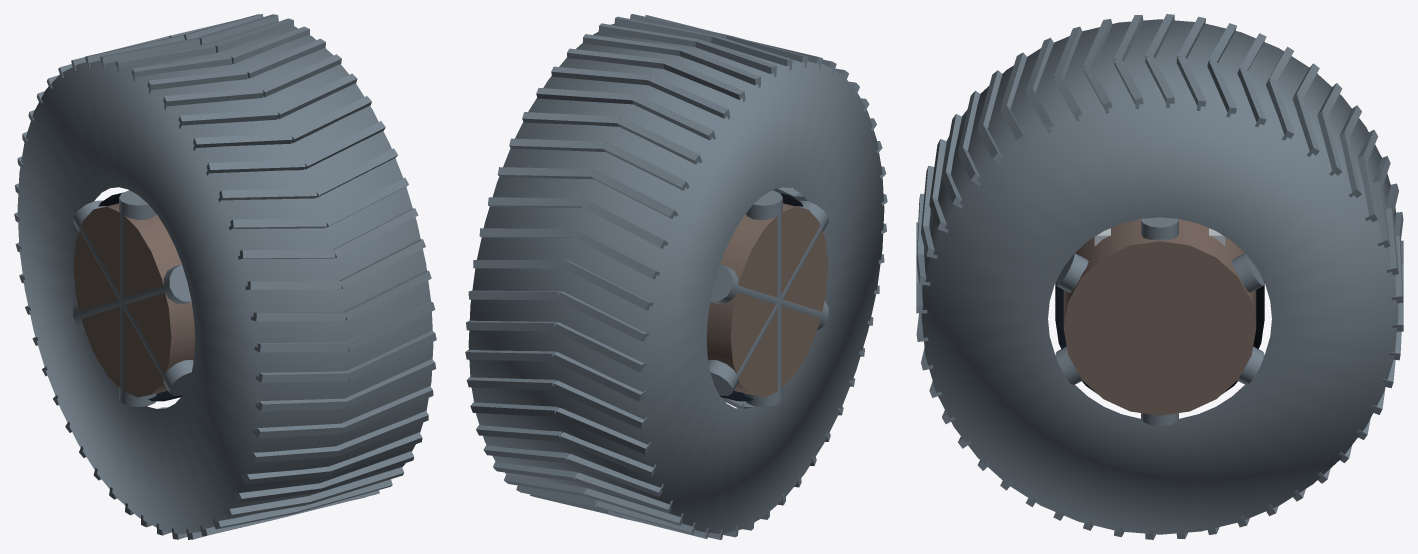
The model's file is perseverance_mobility.rocker_left.bogie.steer_rear.glb.
3 views of the same model, side by side, from view 1: azimuth 30°, elevation 25°; view 2: azimuth 150°, elevation 25°; view 3: azimuth 270°, elevation 25° (orthographic).
Parts seen in each view (by area): view 1: perseverance_mobility.rocker_left.bogie.steer_rear.wheel_rea (×2); view 2: perseverance_mobility.rocker_left.bogie.steer_rear.wheel_rea (×2); view 3: perseverance_mobility.rocker_left.bogie.steer_rear.wheel_rea (×3).
Part boxes in pixels (x1,y1,x2,y2): perseverance_mobility.rocker_left.bogie.steer_rear.wheel_rea (×2): (14, 14, 436, 539); perseverance_mobility.rocker_left.bogie.steer_rear.wheel_rea (×2): (465, 14, 887, 539); perseverance_mobility.rocker_left.bogie.steer_rear.wheel_rea (×3): (916, 14, 1403, 539).
Bounding box in the file's own units: 0.264 × 0.536 × 0.536.
